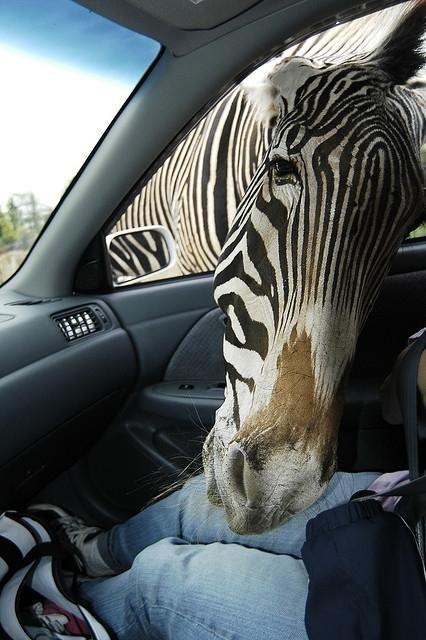car: (0, 4, 394, 528)
